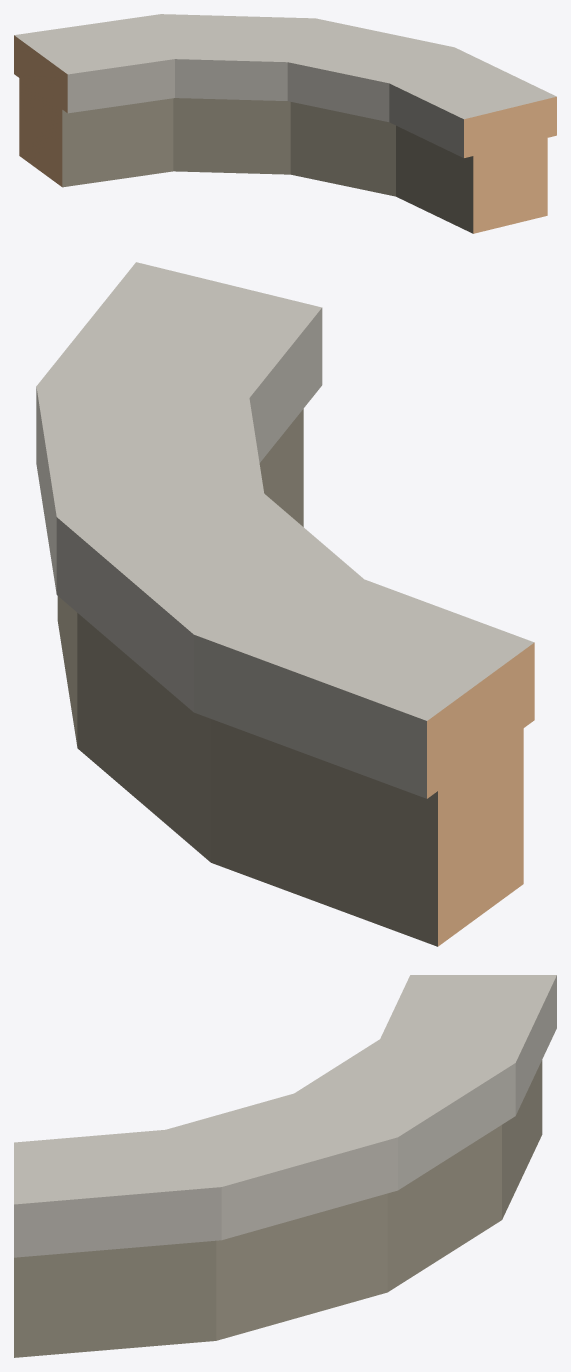
Rendered from Tiered_Retaining_Wall_Flat_Curve_1x1_Top.glb.
The picture shows the model from 3 angles, top to bottom: view 1: azimuth 30°, elevation 25°; view 2: azimuth 150°, elevation 25°; view 3: azimuth 270°, elevation 25°; orthographic projection. The views are drawn at different scales.
Parts seen in each view (by area): view 1: Tiered_Retaining_Wall_Flat_Curve_1x1_Top; view 2: Tiered_Retaining_Wall_Flat_Curve_1x1_Top; view 3: Tiered_Retaining_Wall_Flat_Curve_1x1_Top.
Part boxes in pixels (x1,y1,x2,y2): Tiered_Retaining_Wall_Flat_Curve_1x1_Top: (14, 14, 556, 233); Tiered_Retaining_Wall_Flat_Curve_1x1_Top: (36, 262, 534, 946); Tiered_Retaining_Wall_Flat_Curve_1x1_Top: (14, 975, 556, 1357).
Bounding box in the file's own units: 116 × 37.5 × 116.
